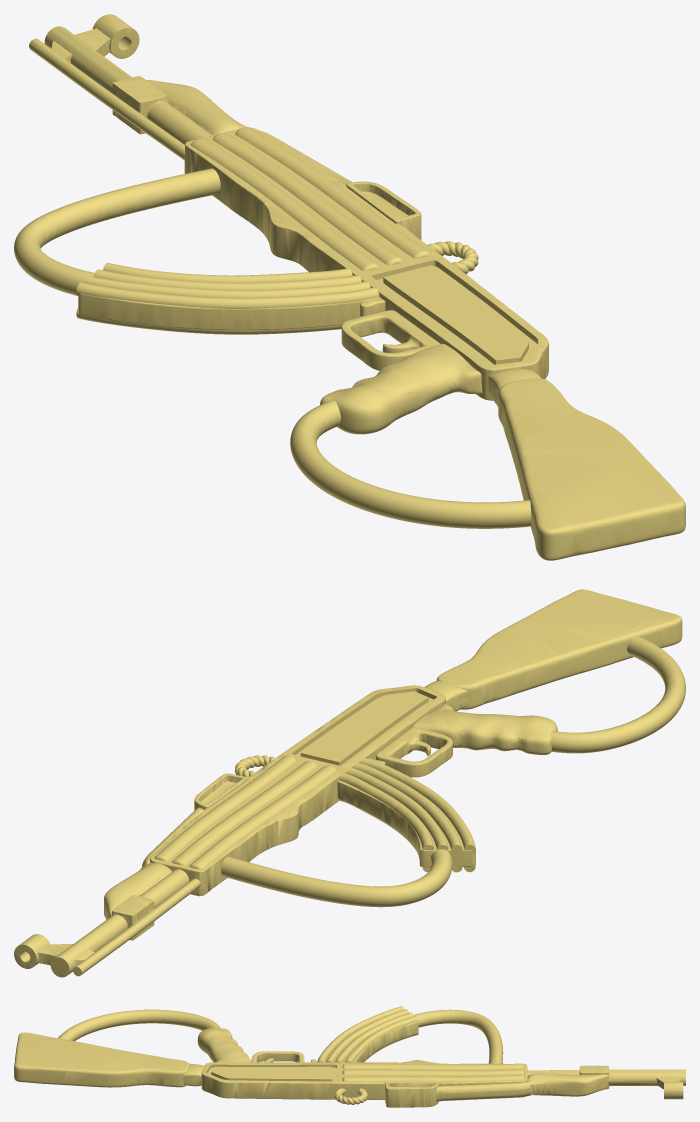
The model's file is keles_sade.glb.
3 renders of one model, top to bottom at view 1: azimuth 30°, elevation 25°; view 2: azimuth 150°, elevation 25°; view 3: azimuth 270°, elevation 25°, orthographic. The views are drawn at different scales.
Visible parts, largest first — view 1: Renderer Node; view 2: Renderer Node; view 3: Renderer Node.
Boxes of the visible parts, x1,y1,x2,y2 form: Renderer Node: (14, 14, 685, 560); Renderer Node: (14, 589, 685, 977); Renderer Node: (14, 1006, 685, 1107).
Size of the model in its own units: 22.12 by 2.42 by 70.53.
